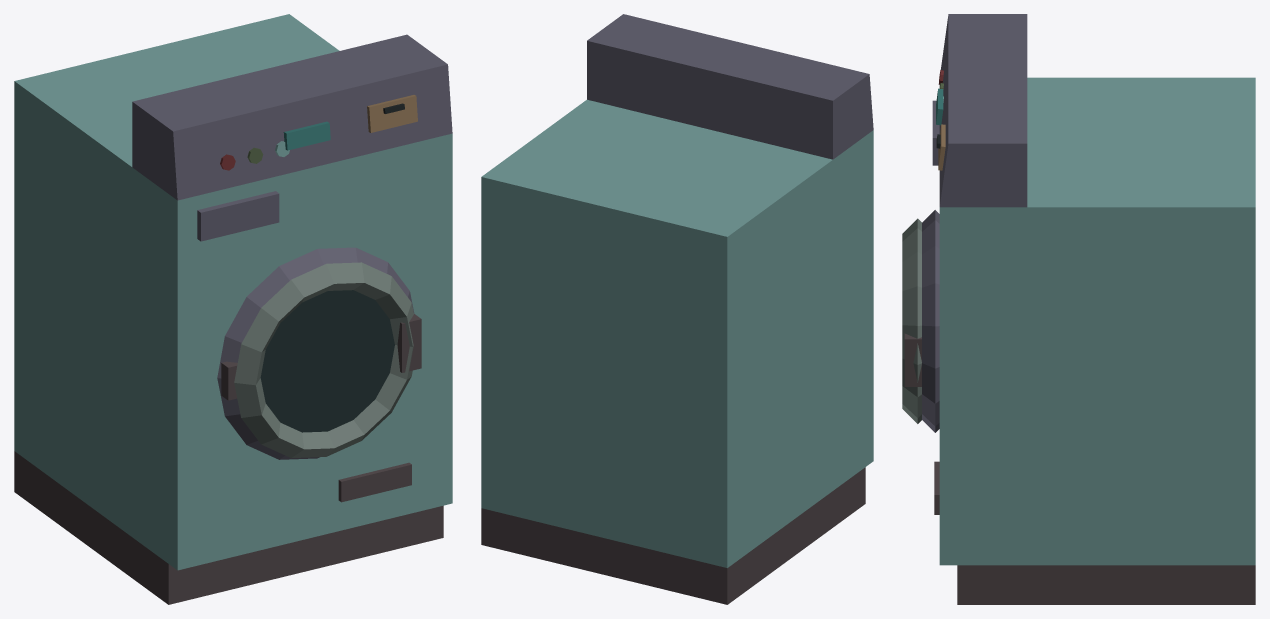
The model's file is masina_spalat.glb.
3 views of the same model, side by side, from view 1: azimuth 30°, elevation 25°; view 2: azimuth 150°, elevation 25°; view 3: azimuth 270°, elevation 25° (orthographic). The views are drawn at different scales.
Visible parts, largest first — view 1: Masina, GeamUsa, Usa, Afisaj; view 2: Masina; view 3: Masina, Usa.
Boxes of the visible parts, box(x1,y1,x2,y2) form: Masina: box(14, 14, 452, 604); GeamUsa: box(260, 290, 394, 432); Usa: box(221, 262, 421, 458); Afisaj: box(283, 121, 330, 150); Masina: box(481, 14, 873, 604); Masina: box(922, 14, 1255, 604); Usa: box(902, 218, 921, 423).
Size of the model in its own units: 0.7 by 1.16 by 0.805.
